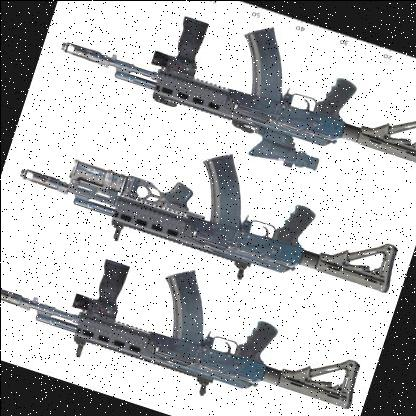rifle: (11, 87, 416, 318), (0, 207, 375, 416), (40, 0, 416, 207)
